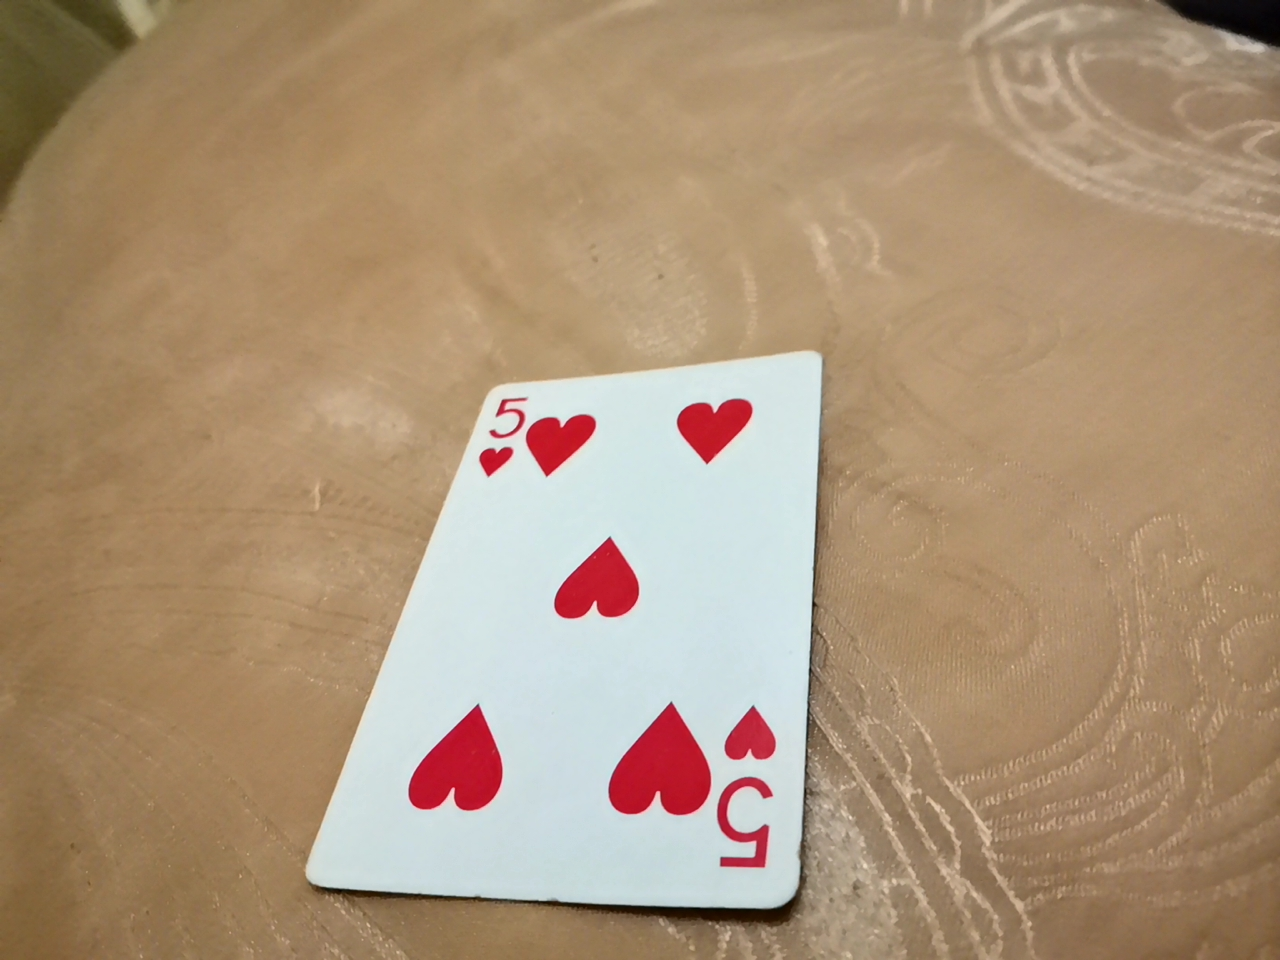hx 5: (298, 342, 812, 951)
